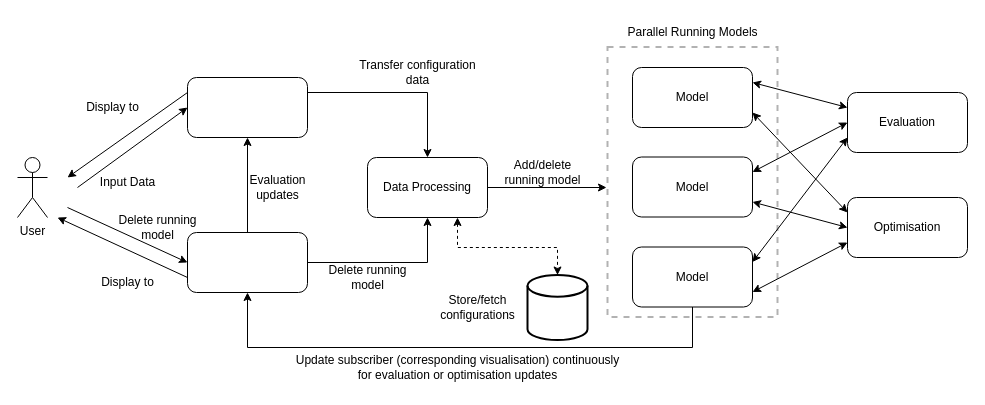
This 985x405 diagram has some shape labels left out. The centre of each missing label's shape, as x and y in pixels:
"File system" goes at (x=557, y=307).
"User Input" goes at (x=247, y=107).
"Visualisation" goes at (x=247, y=262).
